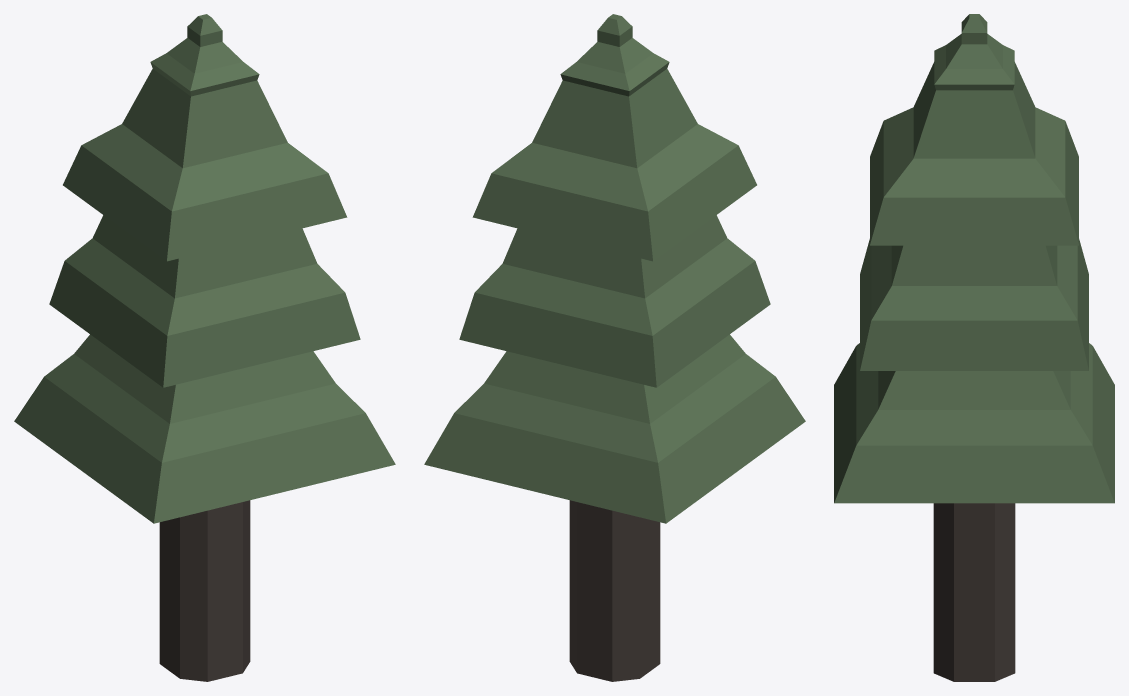
File: Tree3.fbx
3 renders of one model, left to right at view 1: azimuth 30°, elevation 25°; view 2: azimuth 150°, elevation 25°; view 3: azimuth 270°, elevation 25°, orthographic.
Visible parts, largest first — view 1: Tree3; view 2: Tree3; view 3: Tree3.
Part boxes in pixels (x1=…): Tree3: x1=14, y1=14, x2=395, y2=681; Tree3: x1=424, y1=14, x2=805, y2=681; Tree3: x1=834, y1=14, x2=1114, y2=681.
Size of the model in its own units: 1.72 by 4.39 by 1.72.
